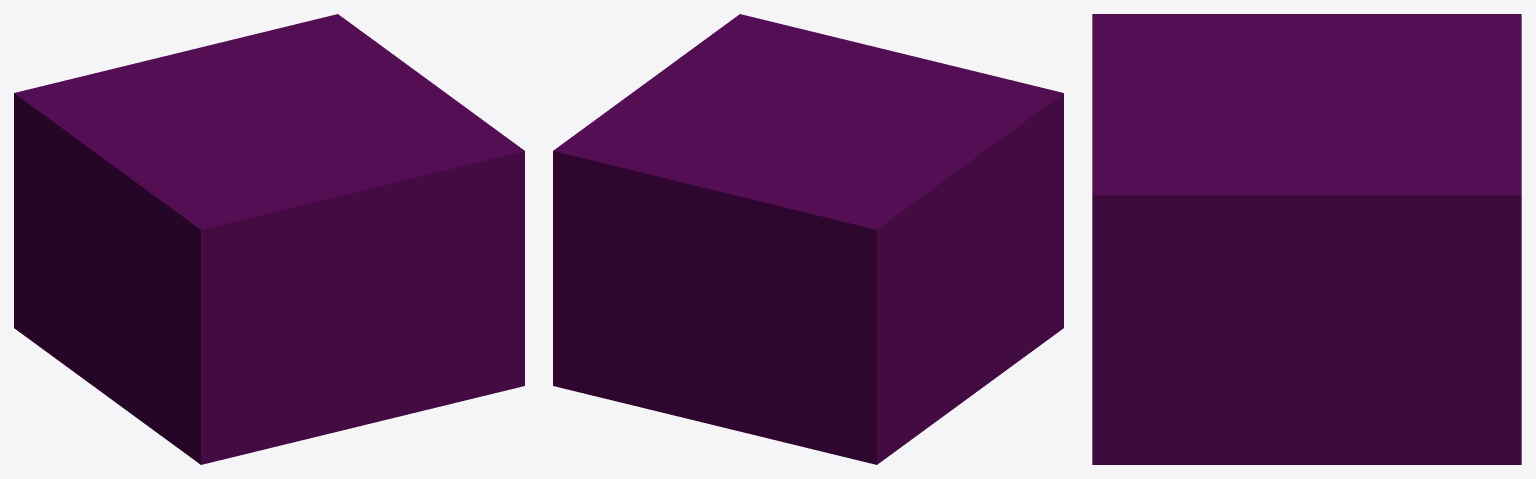
The model's file is buttonmesh.fbx.
3 views of the same model, side by side, from view 1: azimuth 30°, elevation 25°; view 2: azimuth 150°, elevation 25°; view 3: azimuth 270°, elevation 25° (orthographic). The views are drawn at different scales.
Visible parts, largest first — view 1: glass_low; view 2: glass_low; view 3: glass_low.
Boxes of the visible parts, <box> form: glass_low: <box>14,14,524,464</box>; glass_low: <box>553,14,1063,464</box>; glass_low: <box>1092,14,1521,464</box>.
Size of the model in its own units: 4.37 by 3.03 by 4.37.
